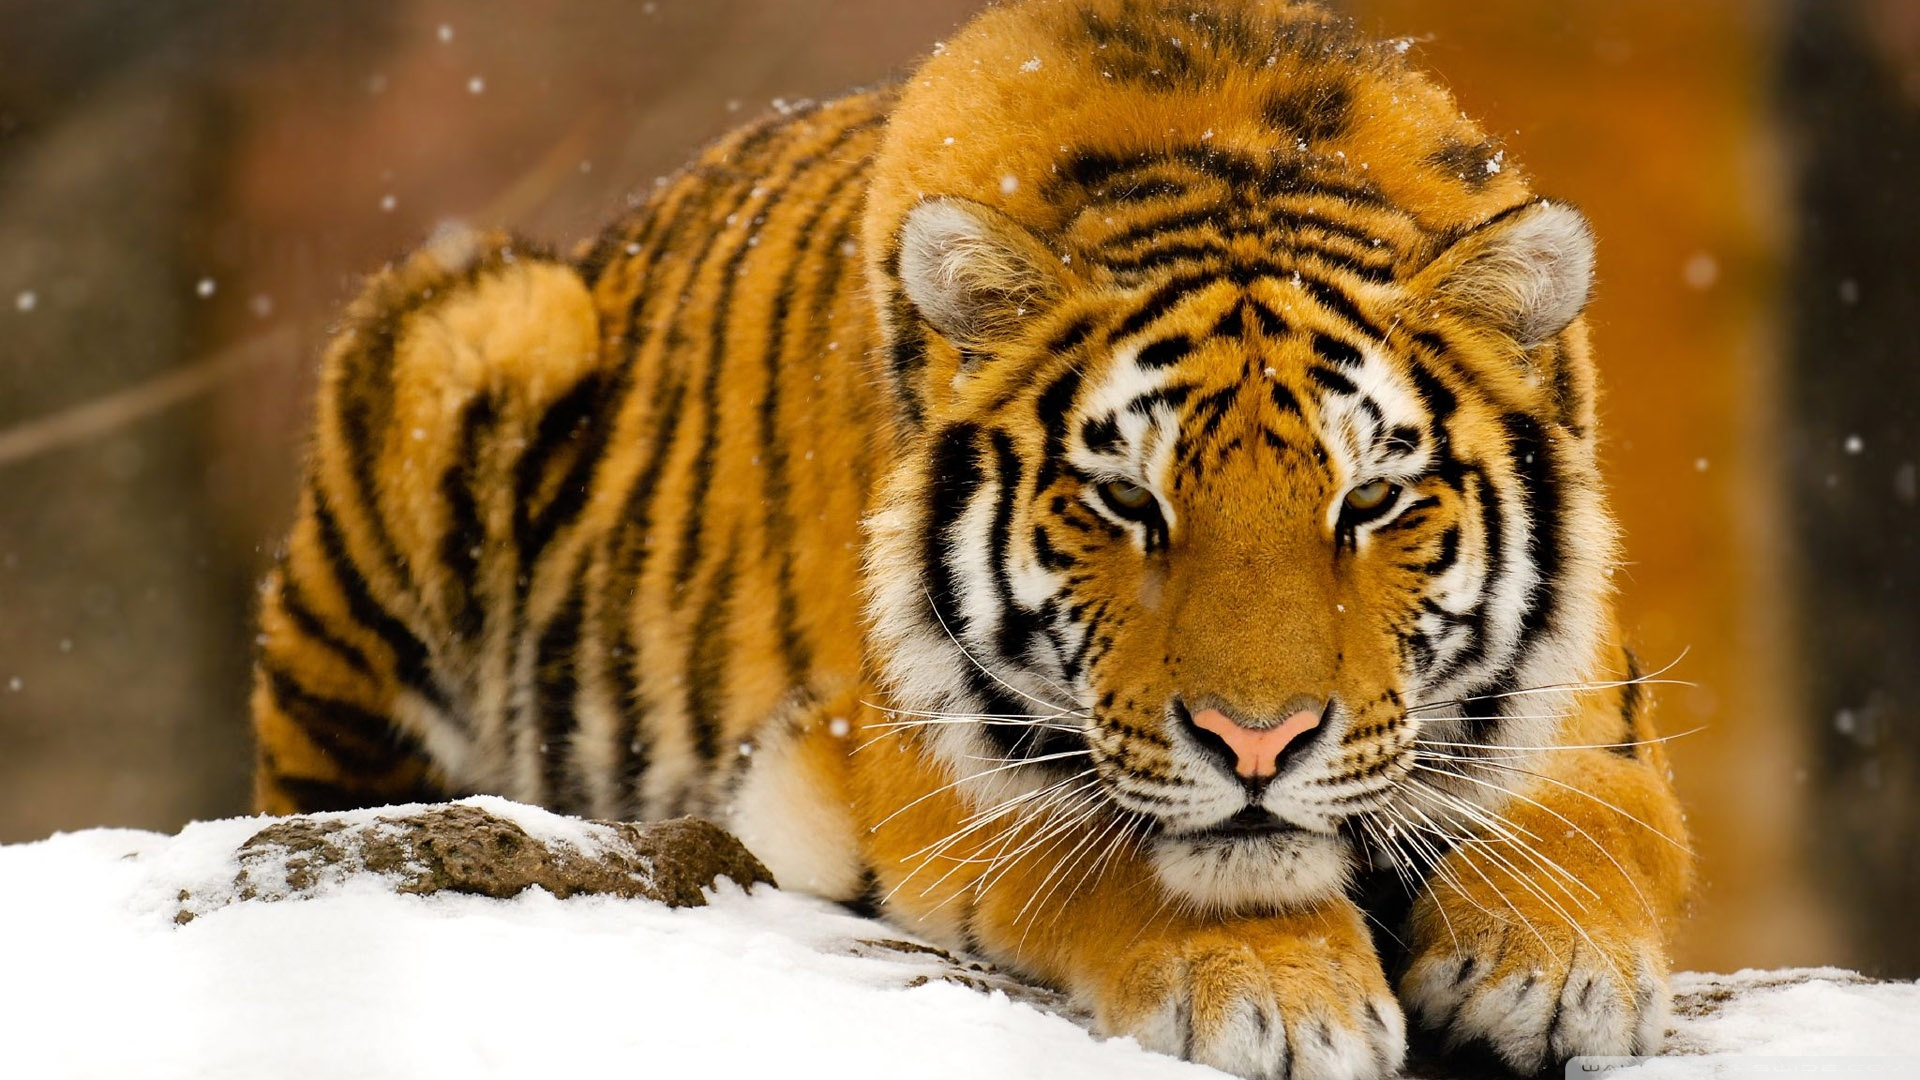tiger: (293, 49, 1763, 1080)
